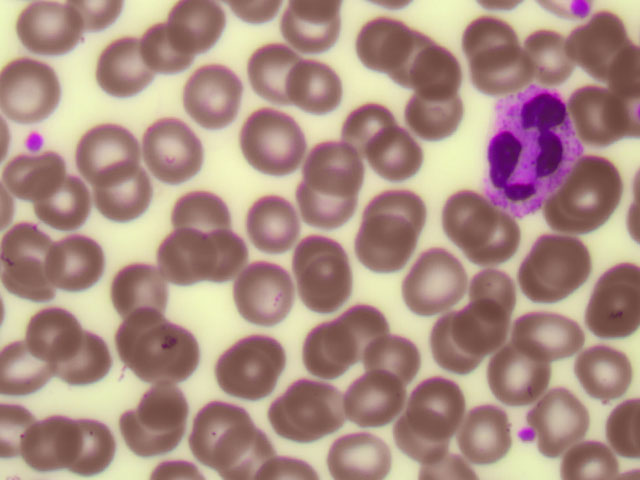Platelets: (570, 2, 591, 22), (24, 131, 44, 152), (518, 426, 534, 438)
RBC: (237, 422, 298, 480), (325, 422, 386, 480), (551, 422, 612, 480), (9, 63, 70, 120), (91, 42, 152, 99), (124, 24, 185, 81), (164, 1, 225, 58), (185, 65, 246, 122), (142, 128, 203, 185), (76, 120, 137, 177), (92, 164, 153, 221), (25, 178, 86, 235), (2, 151, 63, 208), (46, 234, 107, 291), (119, 266, 180, 323), (108, 296, 169, 353), (132, 321, 193, 378), (56, 331, 117, 388), (21, 300, 82, 357), (4, 343, 65, 400), (13, 416, 74, 473), (59, 422, 120, 479), (114, 405, 175, 462), (141, 372, 202, 429), (178, 393, 239, 450), (211, 343, 272, 400), (233, 259, 294, 316), (181, 229, 242, 286), (142, 224, 203, 281), (170, 180, 231, 237), (233, 190, 294, 247), (304, 173, 365, 230), (305, 137, 366, 194), (236, 112, 297, 169), (286, 54, 347, 111), (247, 40, 308, 97), (277, 1, 338, 58), (353, 17, 414, 74), (385, 21, 446, 78), (399, 44, 460, 101), (405, 90, 466, 147), (379, 125, 440, 182), (330, 97, 391, 154), (366, 176, 427, 233), (357, 210, 418, 267), (293, 264, 354, 321), (289, 227, 350, 284), (336, 297, 397, 354), (297, 315, 358, 372), (293, 375, 354, 432), (264, 394, 325, 451), (358, 372, 419, 429), (361, 322, 422, 379), (402, 389, 463, 446), (447, 401, 508, 458), (495, 345, 556, 402), (525, 306, 586, 363), (452, 292, 513, 349), (423, 319, 484, 376), (405, 259, 466, 316), (458, 264, 519, 321), (460, 208, 521, 265), (441, 186, 502, 243), (547, 180, 608, 237), (570, 153, 631, 210), (530, 233, 591, 290), (579, 287, 640, 344), (577, 334, 638, 391), (536, 383, 597, 440), (565, 90, 626, 147), (535, 30, 596, 87), (478, 43, 539, 100), (466, 15, 527, 72), (571, 13, 632, 70), (1, 218, 61, 275), (16, 1, 77, 57)
WBC: (476, 90, 590, 197)
